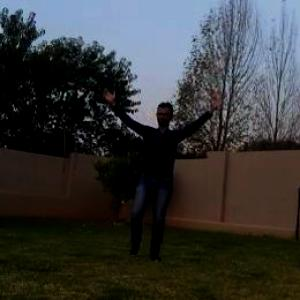takeoff: (96, 92, 222, 260)
